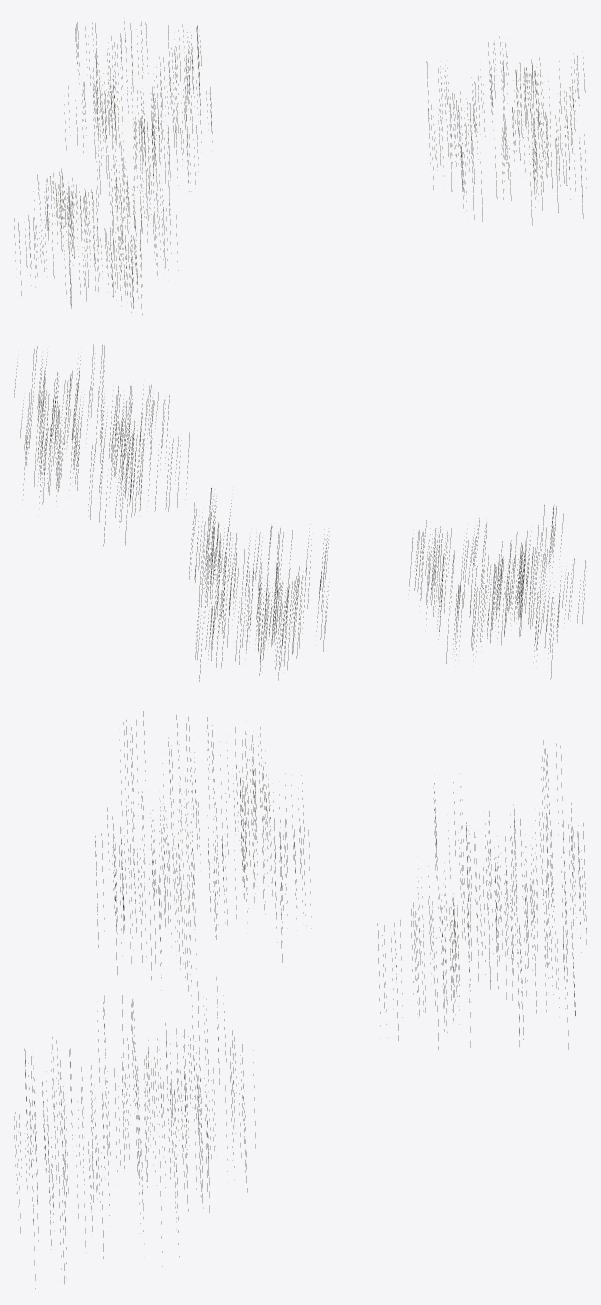
The model's file is xiyuan-vegetation-10-far.glb.
3 views of the same model, one above another, from view 1: azimuth 30°, elevation 25°; view 2: azimuth 150°, elevation 25°; view 3: azimuth 270°, elevation 25° (orthographic). The views are drawn at different scales.
Parts seen in each view (by area): view 1: vegetation willow hanging twigs; view 2: vegetation willow hanging twigs; view 3: vegetation willow hanging twigs.
Part boxes in pixels (x1,y1,x2,y2): vegetation willow hanging twigs: [14, 18, 586, 315]; vegetation willow hanging twigs: [14, 344, 586, 681]; vegetation willow hanging twigs: [14, 711, 586, 1288].
Bounding box in the file's own units: 28.37 × 8.9 × 15.92.
